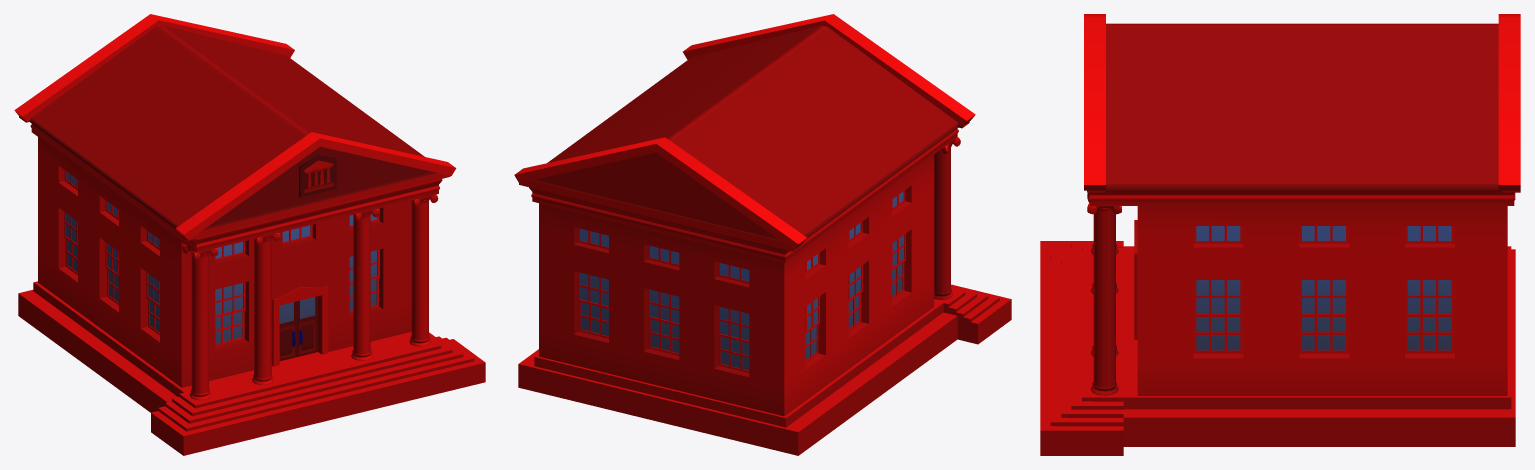
File: buildings-business-courthouse_v1.fbx
3 renders of one model, left to right at view 1: azimuth 30°, elevation 25°; view 2: azimuth 150°, elevation 25°; view 3: azimuth 270°, elevation 25°, orthographic. The views are drawn at different scales.
Parts seen in each view (by area): view 1: Courthouse_base, Courthouse_windowRefl; view 2: Courthouse_base, Courthouse_windowRefl; view 3: Courthouse_base, Courthouse_windowRefl.
Part boxes in pixels (bbox=[...]): Courthouse_base: bbox=[14, 14, 485, 455]; Courthouse_windowRefl: bbox=[66, 171, 377, 343]; Courthouse_base: bbox=[514, 14, 1011, 455]; Courthouse_windowRefl: bbox=[579, 191, 903, 370]; Courthouse_base: bbox=[1040, 14, 1520, 455]; Courthouse_windowRefl: bbox=[1196, 226, 1451, 350].
Size of the model in its own units: 17.28 by 14.62 by 18.48.
